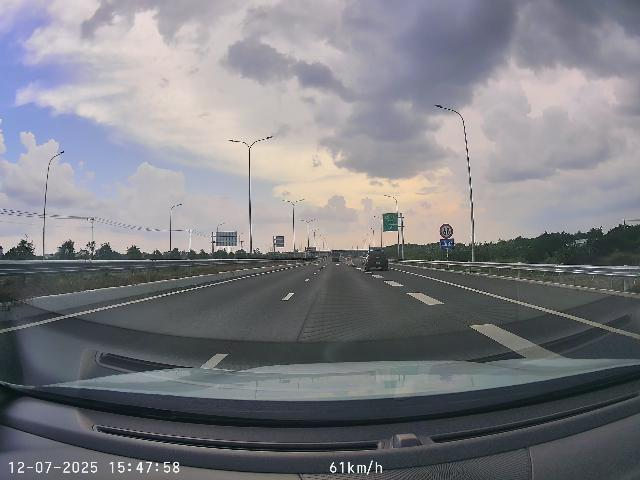127-toc-do-toi-da-60: (439, 223, 453, 239)
